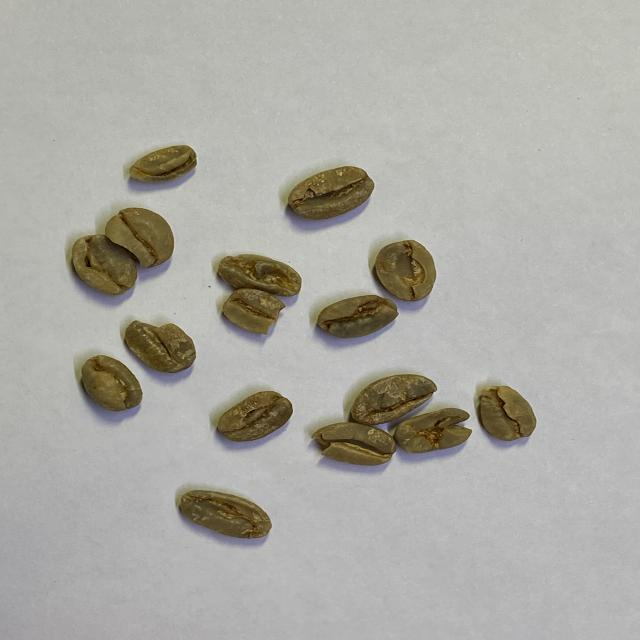bad: (180, 488, 274, 542), (287, 166, 376, 220), (104, 206, 176, 270), (350, 374, 438, 426), (70, 233, 138, 296), (216, 389, 294, 443), (373, 238, 438, 302), (124, 319, 198, 375), (310, 421, 398, 467), (316, 292, 400, 340), (218, 252, 304, 298), (78, 354, 146, 412), (393, 407, 472, 453), (477, 384, 538, 442), (222, 286, 286, 336), (127, 143, 199, 185)
